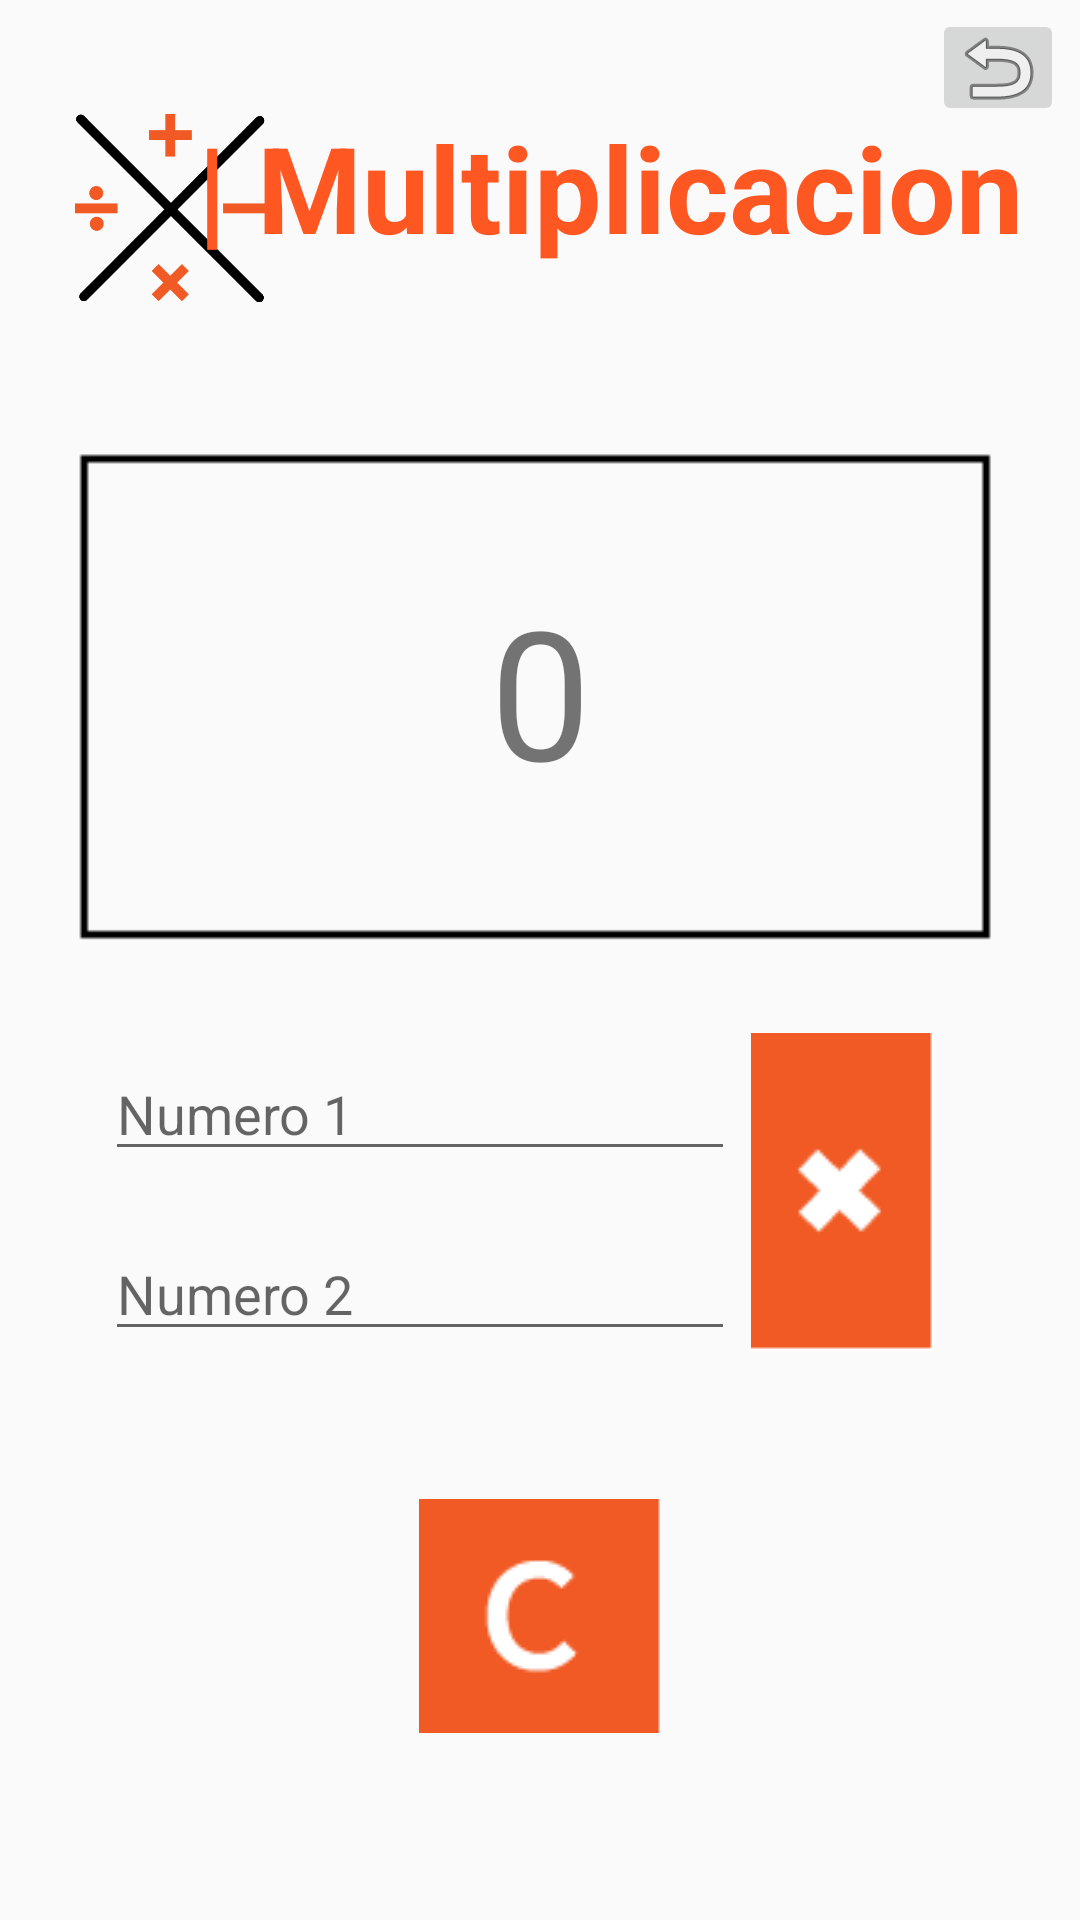

Point at icon controls on the screen. Image size 1080×1920, points as point (x, y).
borrado: point (539, 1616)
opr multiplicacion: point (841, 1191)
revert: point (998, 67)
